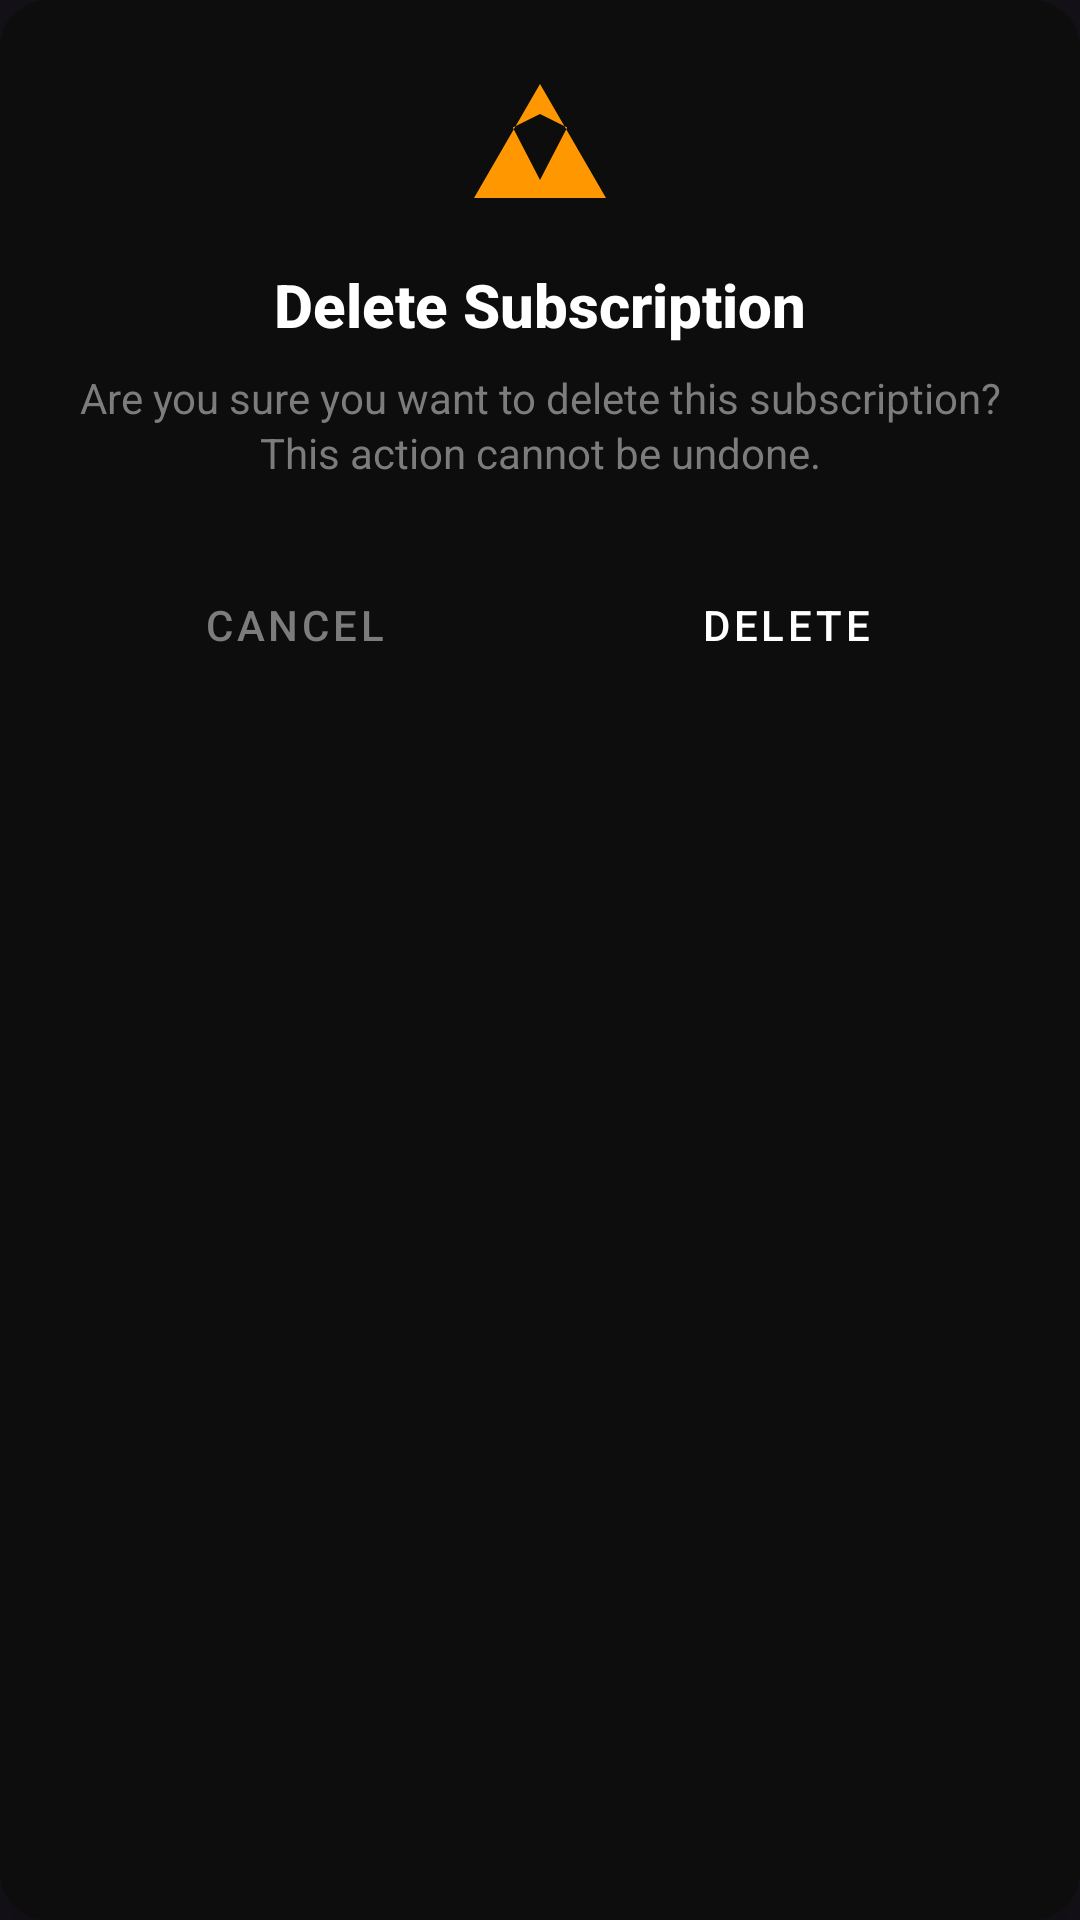

Icons on this 1080px x 1920px Android screen, each with the point to tap as (x=x, y=y):
Warning: (x=540, y=141)
